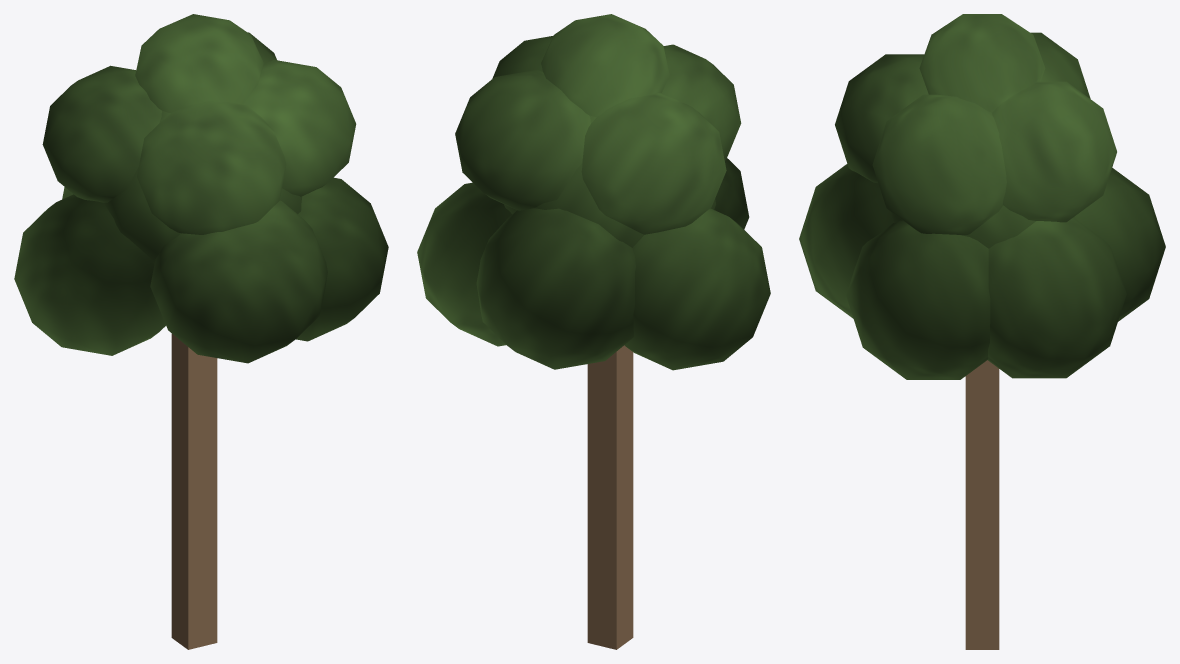
Rendered from site_tree.fbx.
3 views of the same model, side by side, from view 1: azimuth 30°, elevation 25°; view 2: azimuth 150°, elevation 25°; view 3: azimuth 270°, elevation 25° (orthographic).
Visible parts, largest first — view 1: a3002/0/site_tree; view 2: a3002/0/site_tree; view 3: a3002/0/site_tree.
Part boxes in pixels (x1,y1,x2,y2): a3002/0/site_tree: (14, 14, 388, 649); a3002/0/site_tree: (417, 14, 770, 649); a3002/0/site_tree: (799, 14, 1165, 649).
Bounding box in the file's own units: 2.6 × 4.9 × 2.6.
